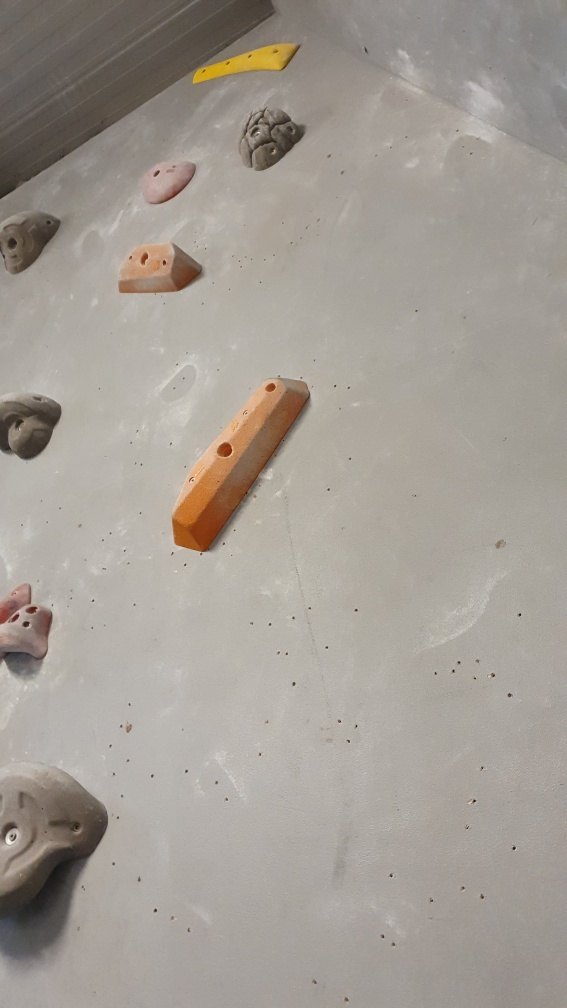Crimp: (184, 40, 307, 88)
Jug: (234, 105, 303, 172), (1, 391, 65, 463), (1, 209, 61, 275)
Pinch: (172, 372, 314, 557), (115, 242, 208, 297)
